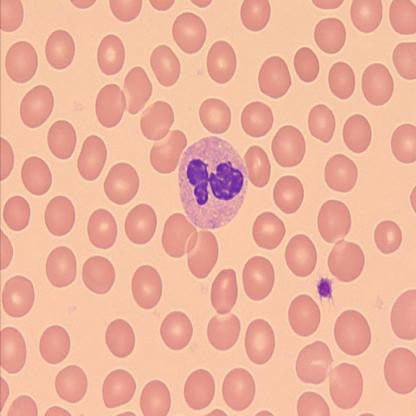Segmented neutrophil: (177, 134, 250, 232)
